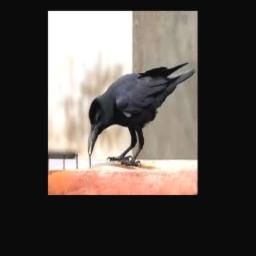Crow: (88, 61, 196, 167)
